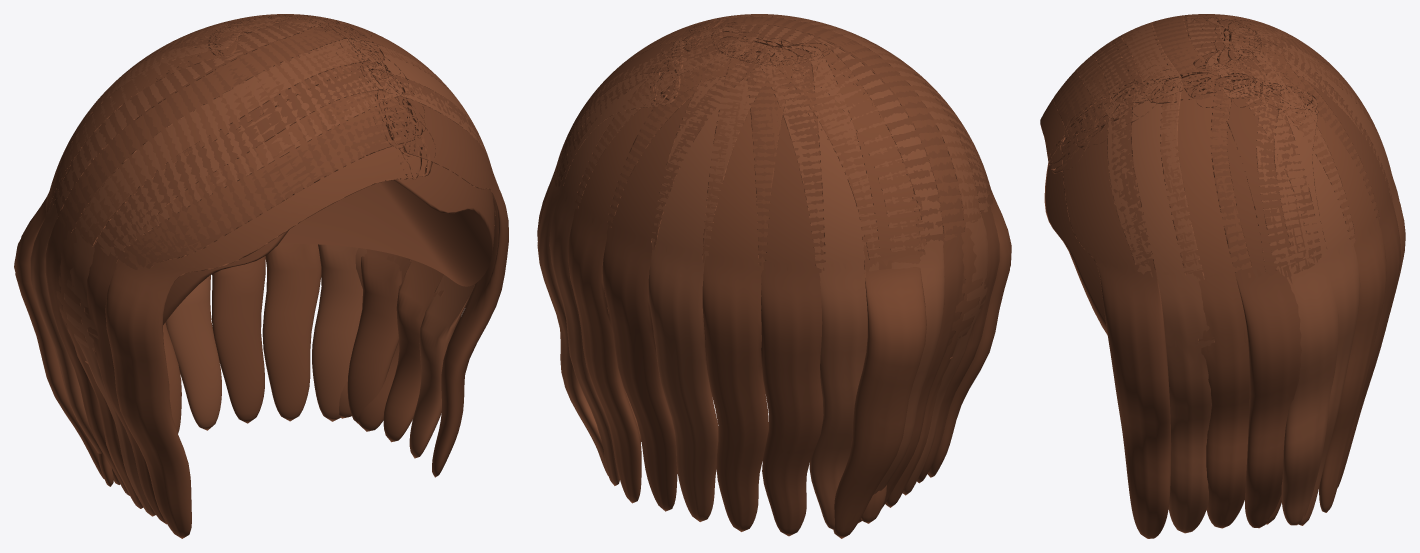
Rendered from Feminine-side-sweep-bandana-hair.glb.
3 views of the same model, side by side, from view 1: azimuth 30°, elevation 25°; view 2: azimuth 150°, elevation 25°; view 3: azimuth 270°, elevation 25° (orthographic). The views are drawn at different scales.
Visible parts, largest first — view 1: 226 hair / Hair / sculpted 0.002, 226 hair / Hair / sculpted 1.004, 226 hair / Hair / sculpted 2.002, 226 hair / Hair / sculpted 1.003; view 2: 226 hair / Hair / sculpted 0.002, 226 hair / Hair / sculpted 2.002, 226 hair / Hair / sculpted 1.004; view 3: 226 hair / Hair / sculpted 1.004, 226 hair / Hair / sculpted 2.002, 226 hair / Hair / sculpted 0.002, 226 hair / Hair / sculpted 1.003.
Boxes of the visible parts, box(x1,y1,x2,y2) form: 226 hair / Hair / sculpted 0.002: box(14, 14, 454, 538); 226 hair / Hair / sculpted 1.004: box(45, 14, 508, 524); 226 hair / Hair / sculpted 2.002: box(30, 14, 495, 516); 226 hair / Hair / sculpted 1.003: box(85, 162, 494, 363); 226 hair / Hair / sculpted 0.002: box(568, 14, 1011, 538); 226 hair / Hair / sculpted 2.002: box(537, 14, 989, 529); 226 hair / Hair / sculpted 1.004: box(537, 14, 999, 536); 226 hair / Hair / sculpted 1.004: box(1053, 14, 1400, 538); 226 hair / Hair / sculpted 2.002: box(1077, 14, 1405, 533); 226 hair / Hair / sculpted 0.002: box(1040, 14, 1399, 528); 226 hair / Hair / sculpted 1.003: box(1044, 163, 1107, 334).
Size of the model in its own units: 0.9945 by 1.06 by 0.7967.
